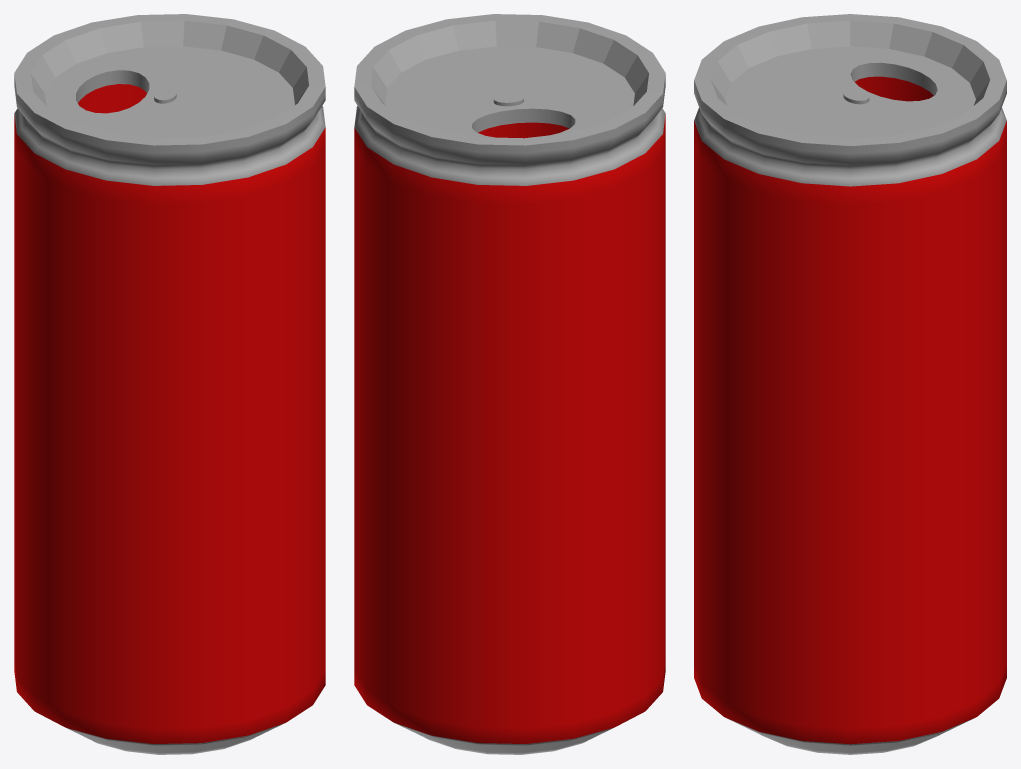
Rendered from Blikje2.fbx.
3 renders of one model, left to right at view 1: azimuth 30°, elevation 25°; view 2: azimuth 150°, elevation 25°; view 3: azimuth 270°, elevation 25°, orthographic.
Visible parts, largest first — view 1: pCylinder5; view 2: pCylinder5; view 3: pCylinder5.
Boxes of the visible parts, x1,y1,x2,y2 form: pCylinder5: [14, 14, 325, 754]; pCylinder5: [354, 14, 665, 754]; pCylinder5: [694, 14, 1006, 754].
Bounding box in the file's own units: 4.55 × 10.11 × 4.55.
